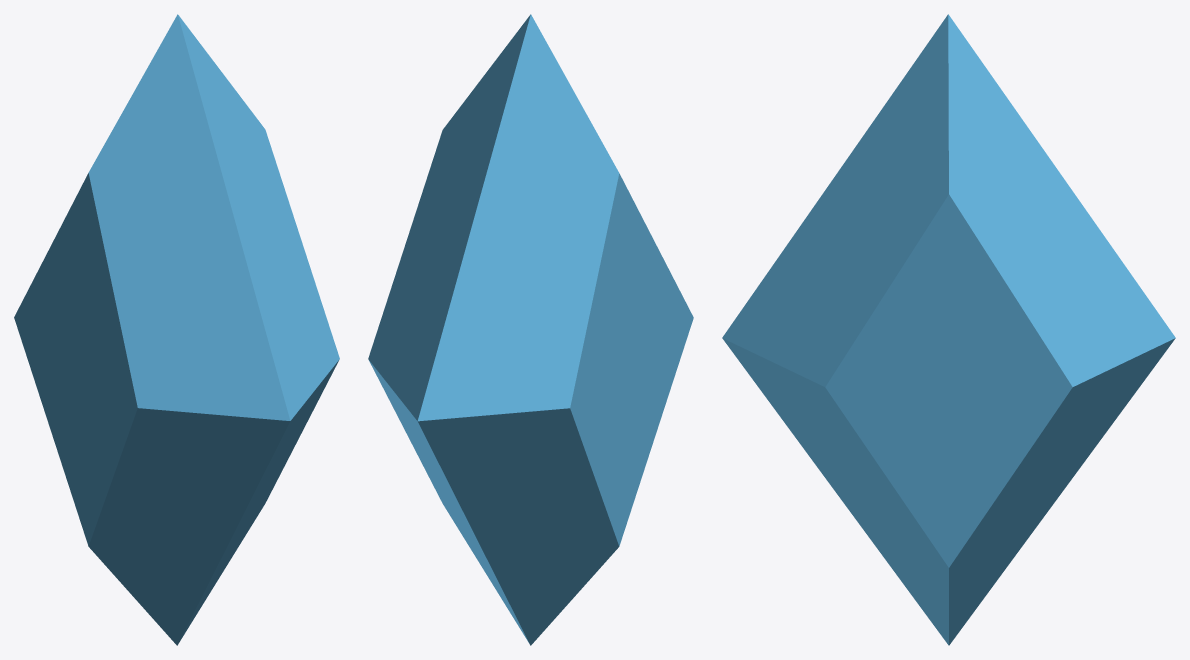
Rendered from crystal.fbx.
3 renders of one model, left to right at view 1: azimuth 30°, elevation 25°; view 2: azimuth 150°, elevation 25°; view 3: azimuth 270°, elevation 25°, orthographic.
Parts seen in each view (by area): view 1: 立方体; view 2: 立方体; view 3: 立方体.
Part boxes in pixels (box(x1,y1,x2,y2)): 立方体: box(14, 14, 339, 645); 立方体: box(368, 14, 693, 645); 立方体: box(722, 14, 1175, 645).
Size of the model in its own units: 1.56 by 2.39 by 0.8.
